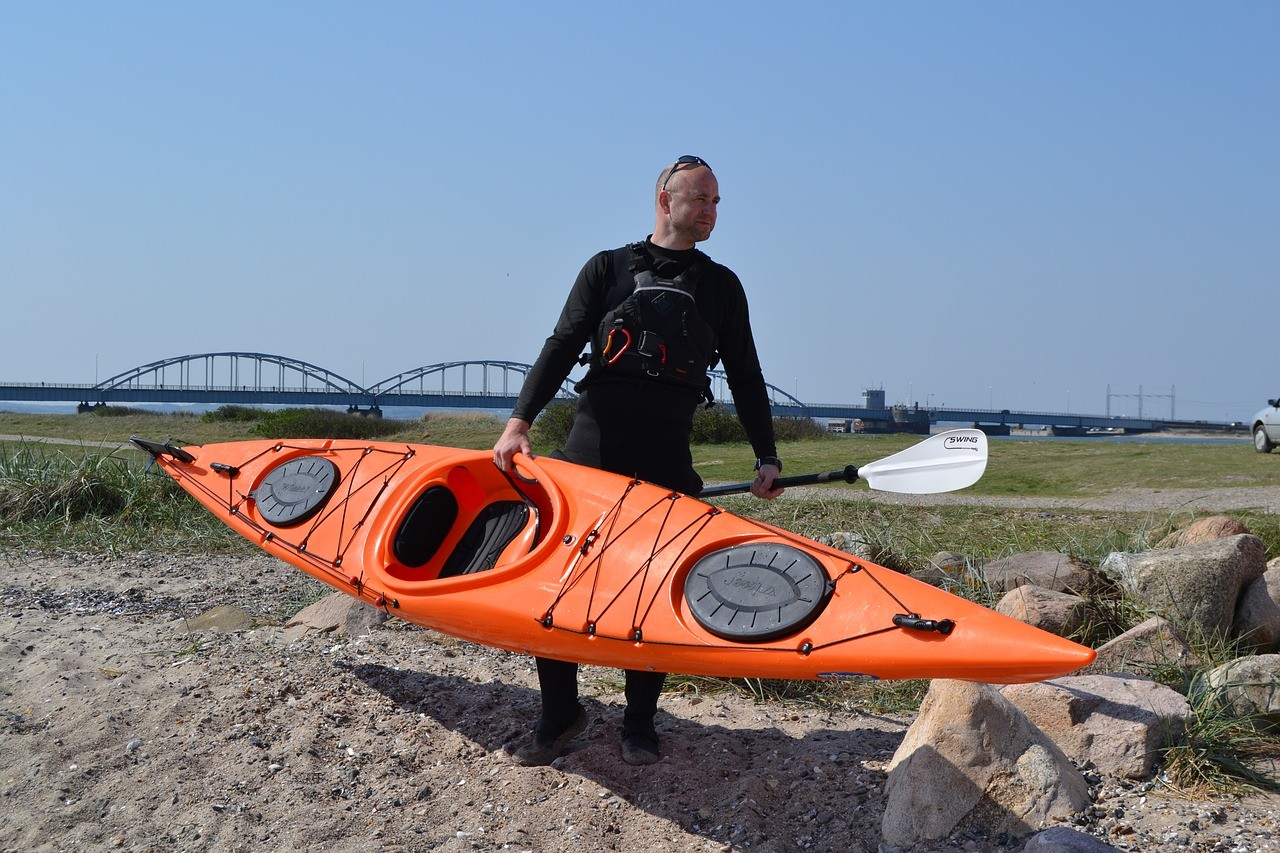kayak: (125, 423, 1102, 681)
